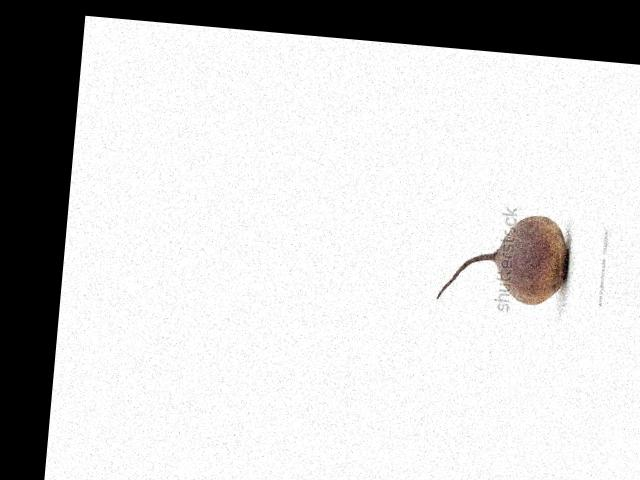beet: (436, 205, 573, 309)
